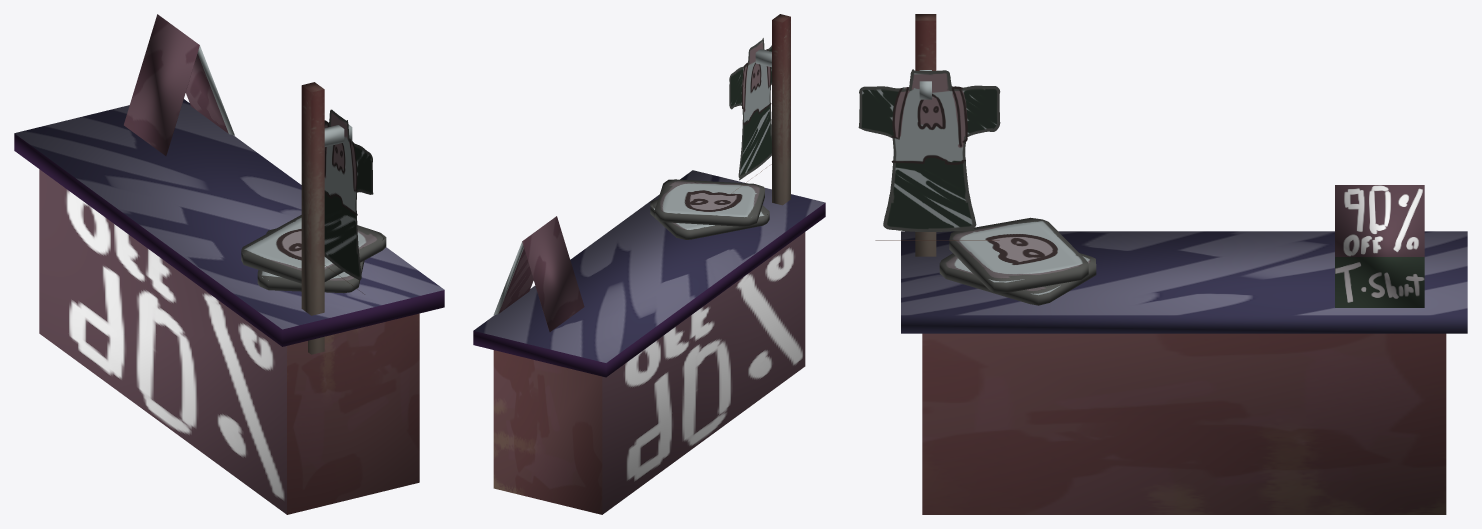
Rendered from BalcaoDeVendas.fbx.
3 views of the same model, side by side, from view 1: azimuth 30°, elevation 25°; view 2: azimuth 150°, elevation 25°; view 3: azimuth 270°, elevation 25° (orthographic). The views are drawn at different scales.
Visible parts, largest first — view 1: BalcaoDeVendas; view 2: BalcaoDeVendas; view 3: BalcaoDeVendas.
Boxes of the visible parts, x1,y1,x2,y2 form: BalcaoDeVendas: [14, 14, 444, 514]; BalcaoDeVendas: [473, 14, 825, 514]; BalcaoDeVendas: [858, 14, 1467, 514].
Bounding box in the file's own units: 122 × 378 × 302.
